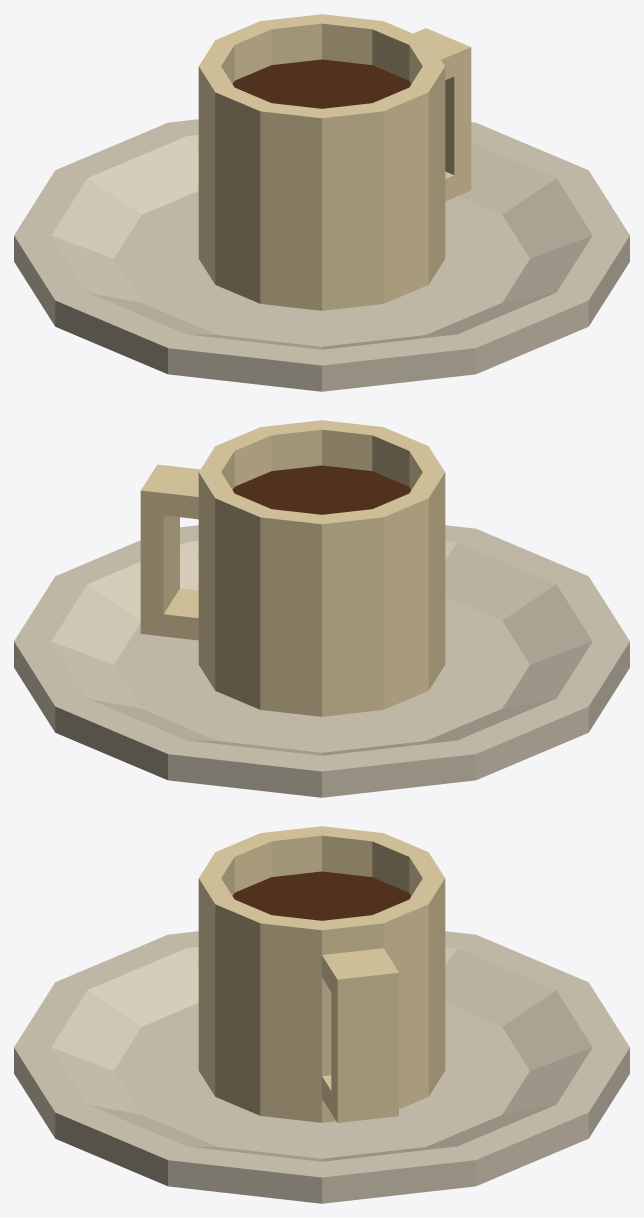
Rendered from Target_01_Coffee.fbx.
3 renders of one model, top to bottom at view 1: azimuth 30°, elevation 25°; view 2: azimuth 150°, elevation 25°; view 3: azimuth 270°, elevation 25°, orthographic.
Parts seen in each view (by area): view 1: Cake; view 2: Cake; view 3: Cake.
Boxes of the visible parts, x1=… form: Cake: x1=14, y1=14, x2=629, y2=391; Cake: x1=14, y1=420, x2=629, y2=797; Cake: x1=14, y1=826, x2=629, y2=1203.
Size of the model in its own units: 0.5 by 0.175 by 0.5.
